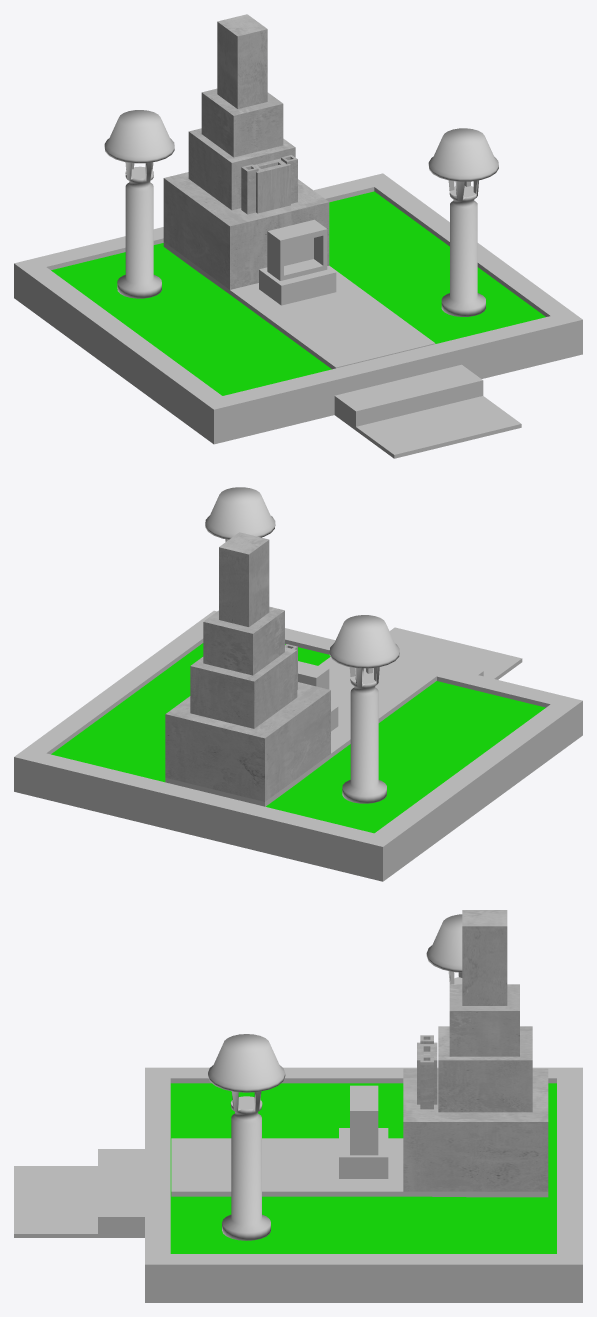
File: groby5.fbx
3 renders of one model, top to bottom at view 1: azimuth 30°, elevation 25°; view 2: azimuth 150°, elevation 25°; view 3: azimuth 270°, elevation 25°, orthographic. The views are drawn at different scales.
Parts seen in each view (by area): view 1: schodki, nagrobek, lamp1, lamp2, Cube.020, Cube.019, Cube.021; view 2: schodki, nagrobek, lamp1, lamp2, Cube.020; view 3: schodki, nagrobek, lamp2, Cube.020, Cube.021, lamp1, Cube.019.
Part boxes in pixels (x1,y1,x2,y2): schodki: (14,173,582,458); nagrobek: (163,14,435,369); lamp1: (104,110,174,298); lamp2: (428,128,498,316); Cube.020: (267,219,327,280); Cube.019: (241,155,297,214); Cube.021: (259,266,336,305); schodki: (14,610,582,881); nagrobek: (165,532,436,806); lamp1: (329,615,399,803); lamp2: (205,487,275,541); Cube.020: (298,661,329,689); schodki: (14,1067,582,1302); nagrobek: (171,910,548,1197); lamp2: (208,1034,285,1240); Cube.020: (350,1085,378,1155); Cube.021: (339,1128,388,1178); lamp1: (426,914,462,984); Cube.019: (417,1035,437,1109).
Size of the model in its own units: 1900 by 1283 by 2316.
